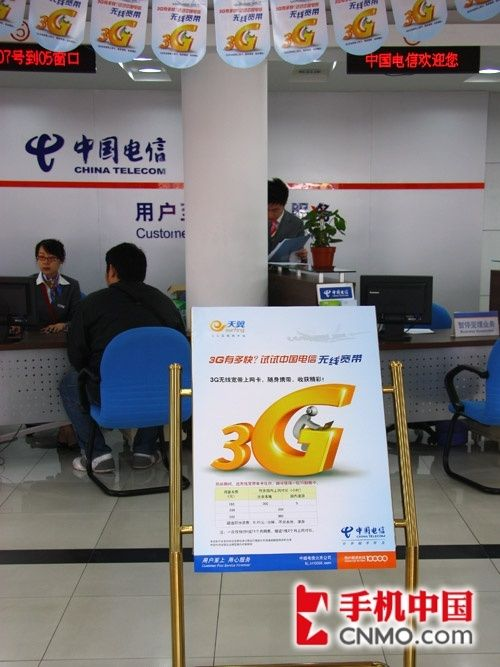bill: (195, 309, 399, 571)
